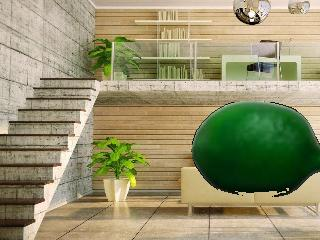lime: (192, 100, 320, 196)
